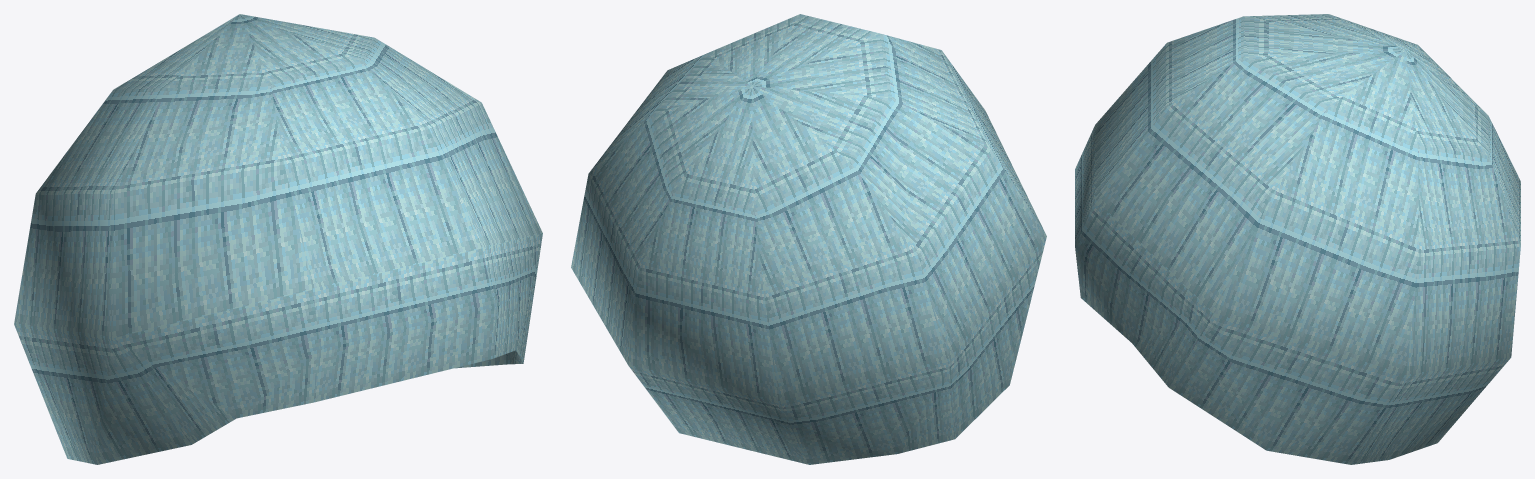
File: code_head25.gltf
The picture shows the model from 3 angles, left to right: view 1: azimuth 30°, elevation 25°; view 2: azimuth 150°, elevation 25°; view 3: azimuth 270°, elevation 25°; orthographic projection. The views are drawn at different scales.
Visible parts, largest first — view 1: code_head25; view 2: code_head25; view 3: code_head25.
Boxes of the visible parts, <box> form: code_head25: <box>14,14,542,464</box>; code_head25: <box>571,14,1046,464</box>; code_head25: <box>1075,14,1520,464</box>.
Bounding box in the file's own units: 0.6895 × 0.6147 × 0.6675.
1 material, 1 textured.
